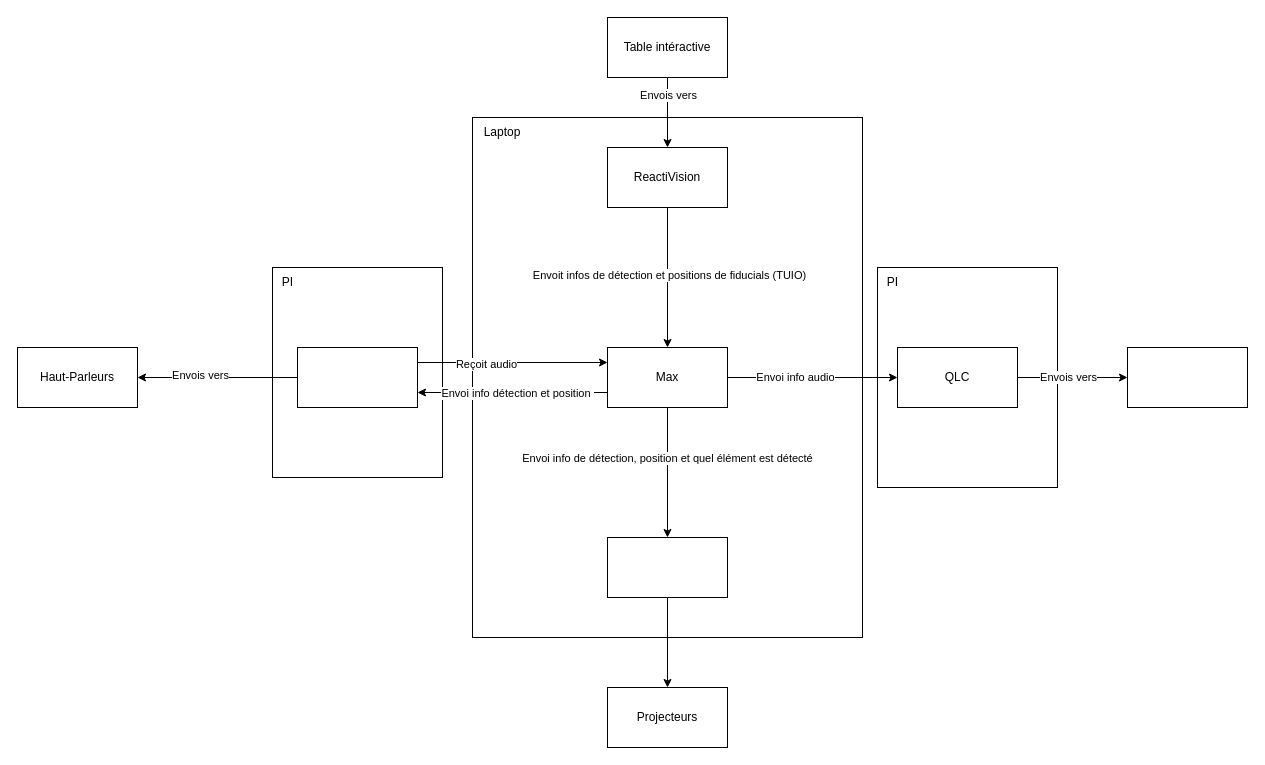
This 1265x765 diagram has some shape labels left out. Here are the shapes that lost their labels. From the top down, the centre of each, then its label:
(357,377): Spat ircam
(1187,377): LEDs
(667,567): Unity
